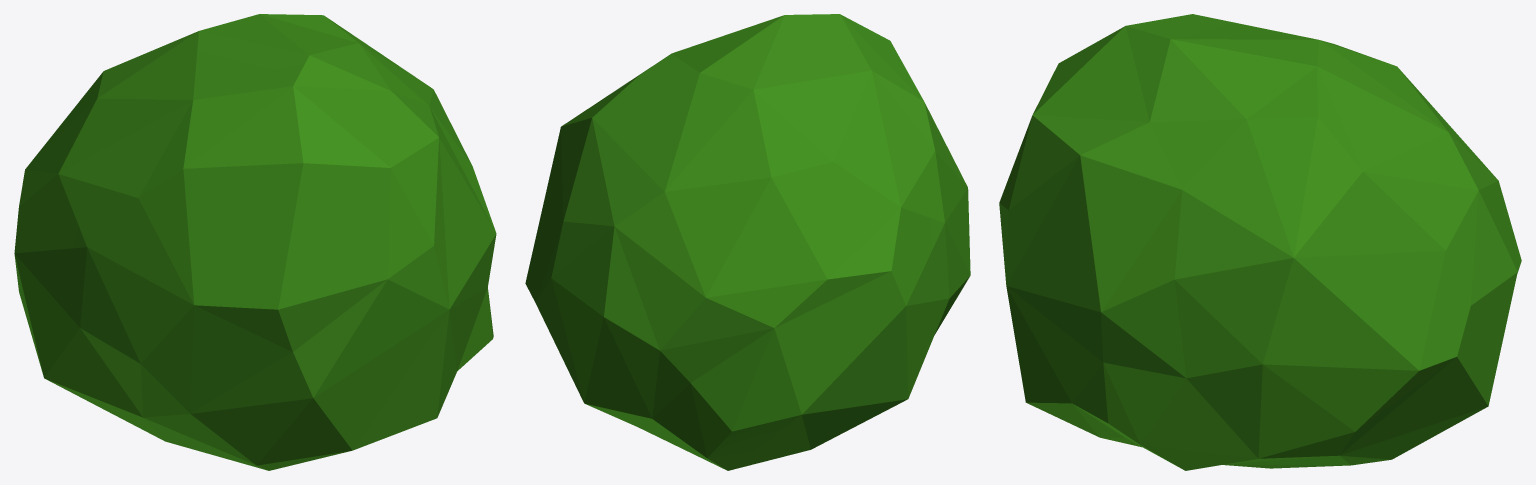
Rendered from BushC.fbx.
The picture shows the model from 3 angles, left to right: view 1: azimuth 30°, elevation 25°; view 2: azimuth 150°, elevation 25°; view 3: azimuth 270°, elevation 25°; orthographic projection. The views are drawn at different scales.
Parts seen in each view (by area): view 1: bushC_geo; view 2: bushC_geo; view 3: bushC_geo.
Boxes of the visible parts, left/top/right/bottom form: bushC_geo: left=14, top=14, right=496, bottom=470; bushC_geo: left=525, top=14, right=970, bottom=470; bushC_geo: left=999, top=14, right=1521, bottom=470.
Bounding box in the file's own units: 121 × 112 × 130.
